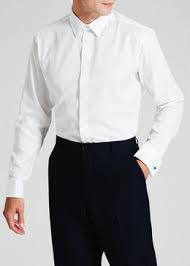F_dress pants: (47, 134, 158, 266)
F_shirt: (12, 12, 186, 176)
